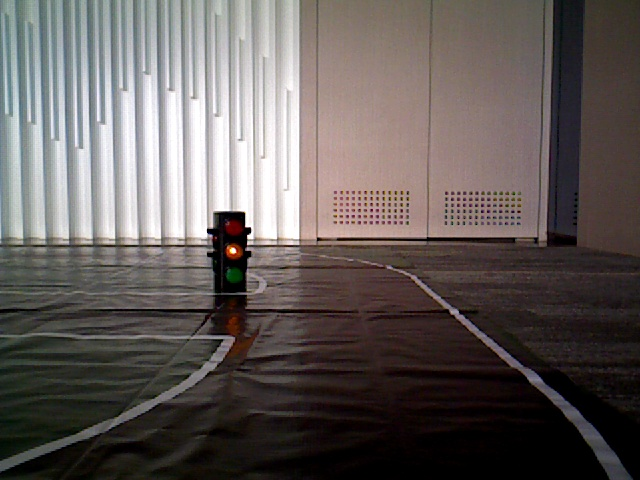yellow: (215, 212, 244, 285)
